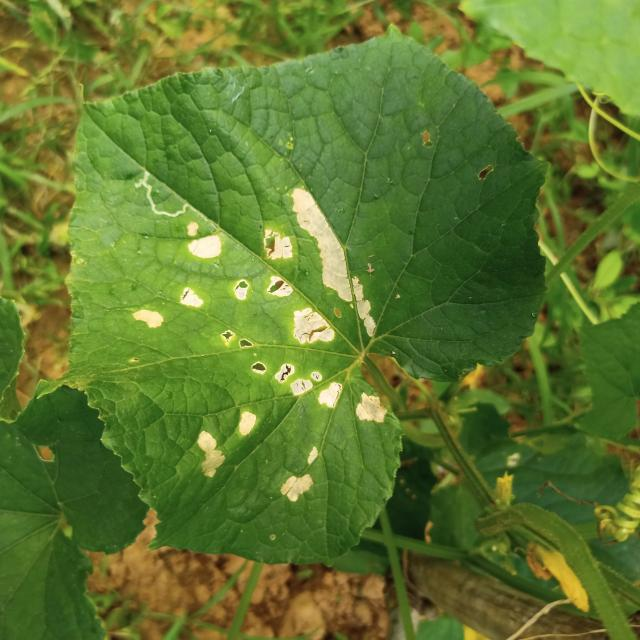disease_cucumber: (255, 181, 382, 351), (120, 219, 256, 354), (220, 327, 398, 428), (184, 404, 329, 506)
